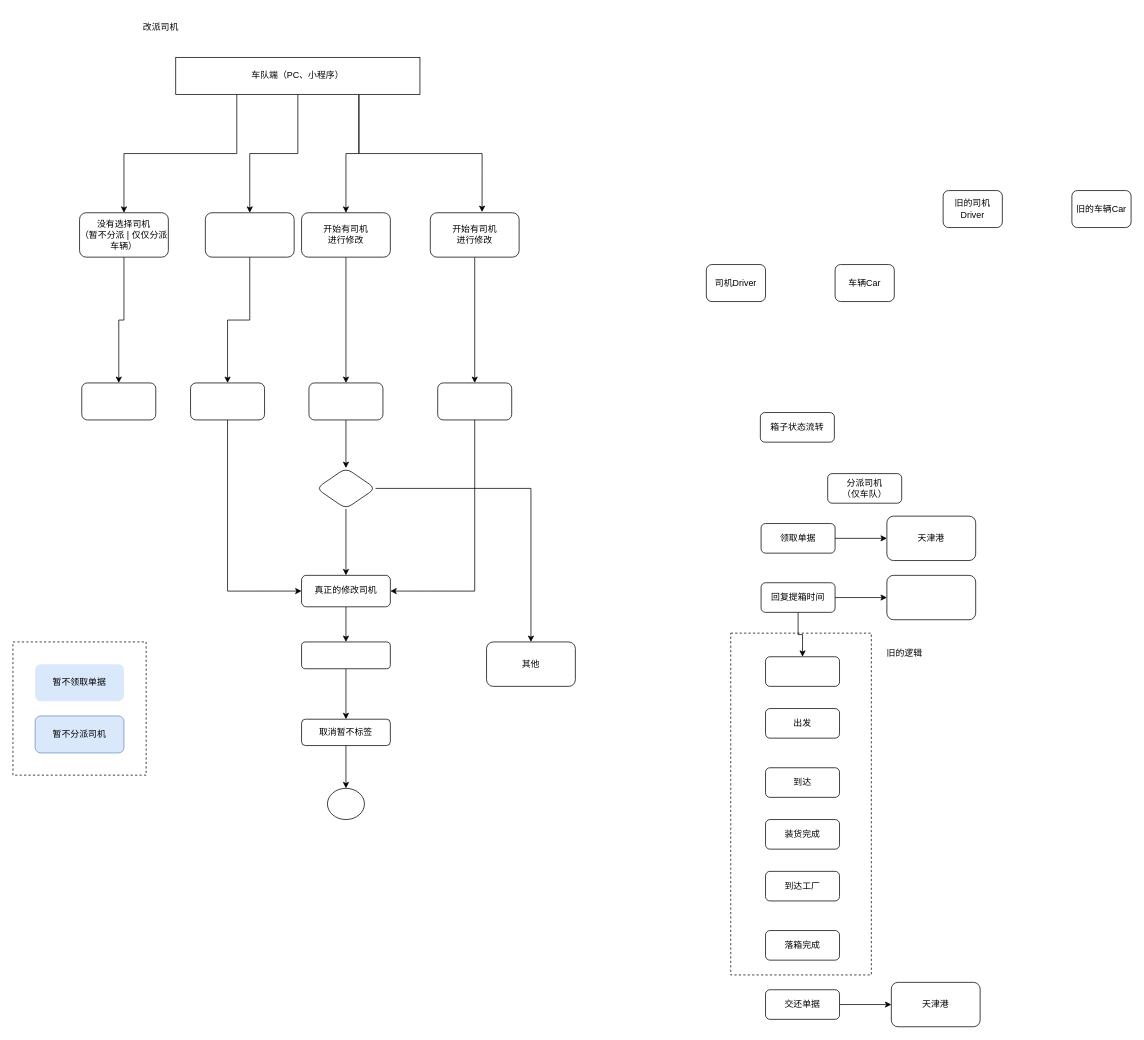
Image size: 1144x1040. Some labels were removed from this diagram. The shapes that lost their labels are listed below. From the top down, each one's centre as x and y in pixels, then its label:
At [249,234]: "开始没有司机 进行分派司机".
At [118,401]: "忽略分派 暂不分派".
At [227,401]: "分派司机".
At [345,401]: "修改司机".
At [474,401]: "重置司机".
At [346,488]: "司机是否进行修改？".
At [931,597]: "进口、未转栈".
At [345,655]: "箱子状态回退".
At [802,671]: "提箱".
At [345,804]: "结束".
